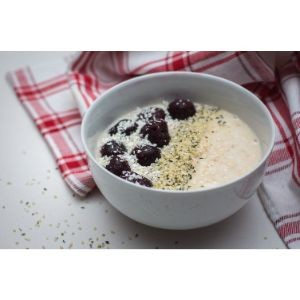oat_brain food: (170, 127, 241, 177)
